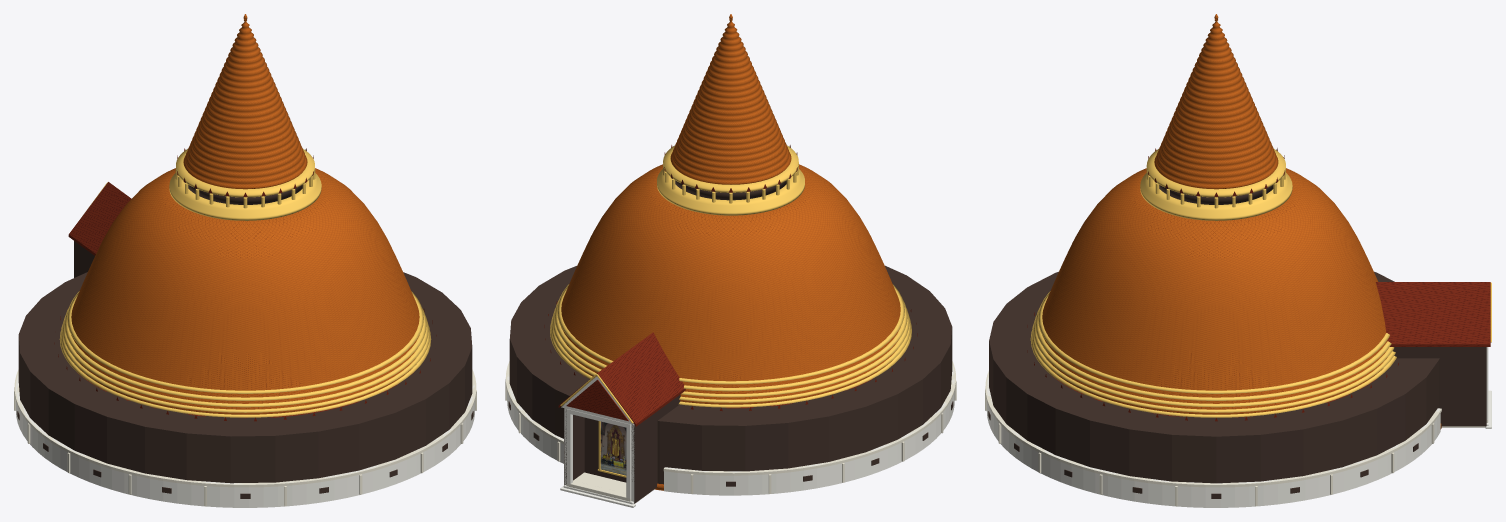
Rendered from HNP_Chedi_v010.fbx.
The picture shows the model from 3 angles, left to right: view 1: azimuth 30°, elevation 25°; view 2: azimuth 150°, elevation 25°; view 3: azimuth 270°, elevation 25°; orthographic projection. The views are drawn at different scales.
Parts seen in each view (by area): view 1: HNP_Chedi_v010_HNP009_GoldBrick, COLL_ChediBase, HNP_Chedi_v010_HNP009_GoldHighlight, HNP_Chedi_v010_HNP009_White, HNP_Chedi_v010_HNP009_Ivory, HNP_Chedi_v010_HNP009_Terracotta, HNP_Chedi_v010_HNP009_DarkInset; view 2: HNP_Chedi_v010_HNP009_GoldBrick, COLL_ChediBase, HNP_Chedi_v010_HNP009_GoldHighlight, HNP_Chedi_v010_HNP009_White, HNP_Chedi_v010_HNP009_Terracotta, HNP_Chedi_v010_HNP009_Ivory, COLL_FrontSanctuarySide_L, HNP_Chedi_v010_HNP009_DarkInset, HNP_Chedi_v010_HNP010_BuddhaPhoto, COLL_FrontSanctuarySide_R; view 3: HNP_Chedi_v010_HNP009_GoldBrick, COLL_ChediBase, HNP_Chedi_v010_HNP009_GoldHighlight, HNP_Chedi_v010_HNP009_White, HNP_Chedi_v010_HNP009_Terracotta, COLL_FrontSanctuarySide_R, HNP_Chedi_v010_HNP009_Ivory, HNP_Chedi_v010_HNP009_DarkInset.
Part boxes in pixels (<box>): HNP_Chedi_v010_HNP009_GoldBrick: <box>71,14,419,414</box>; COLL_ChediBase: <box>18,272,472,483</box>; HNP_Chedi_v010_HNP009_GoldHighlight: <box>59,149,431,417</box>; HNP_Chedi_v010_HNP009_White: <box>16,375,474,507</box>; HNP_Chedi_v010_HNP009_Ivory: <box>14,369,476,506</box>; HNP_Chedi_v010_HNP009_Terracotta: <box>54,148,436,421</box>; HNP_Chedi_v010_HNP009_DarkInset: <box>17,182,473,498</box>; HNP_Chedi_v010_HNP009_GoldBrick: <box>561,14,900,490</box>; COLL_ChediBase: <box>509,265,952,484</box>; HNP_Chedi_v010_HNP009_GoldHighlight: <box>550,145,911,477</box>; HNP_Chedi_v010_HNP009_White: <box>507,365,954,507</box>; HNP_Chedi_v010_HNP009_Terracotta: <box>544,145,917,426</box>; HNP_Chedi_v010_HNP009_Ivory: <box>505,361,956,503</box>; COLL_FrontSanctuarySide_L: <box>631,394,680,503</box>; HNP_Chedi_v010_HNP009_DarkInset: <box>508,178,953,486</box>; HNP_Chedi_v010_HNP010_BuddhaPhoto: <box>600,421,626,475</box>; COLL_FrontSanctuarySide_R: <box>564,402,584,485</box>; HNP_Chedi_v010_HNP009_GoldBrick: <box>1042,14,1441,429</box>; COLL_ChediBase: <box>989,271,1439,483</box>; HNP_Chedi_v010_HNP009_GoldHighlight: <box>1030,149,1491,417</box>; HNP_Chedi_v010_HNP009_White: <box>986,347,1491,507</box>; HNP_Chedi_v010_HNP009_Terracotta: <box>1027,148,1490,421</box>; COLL_FrontSanctuarySide_R: <box>1393,347,1486,426</box>; HNP_Chedi_v010_HNP009_Ivory: <box>985,371,1488,506</box>; HNP_Chedi_v010_HNP009_DarkInset: <box>988,182,1418,498</box>.
Size of the model in its own units: 46.43 by 44 by 50.96.
7 materials, 3 textured.
